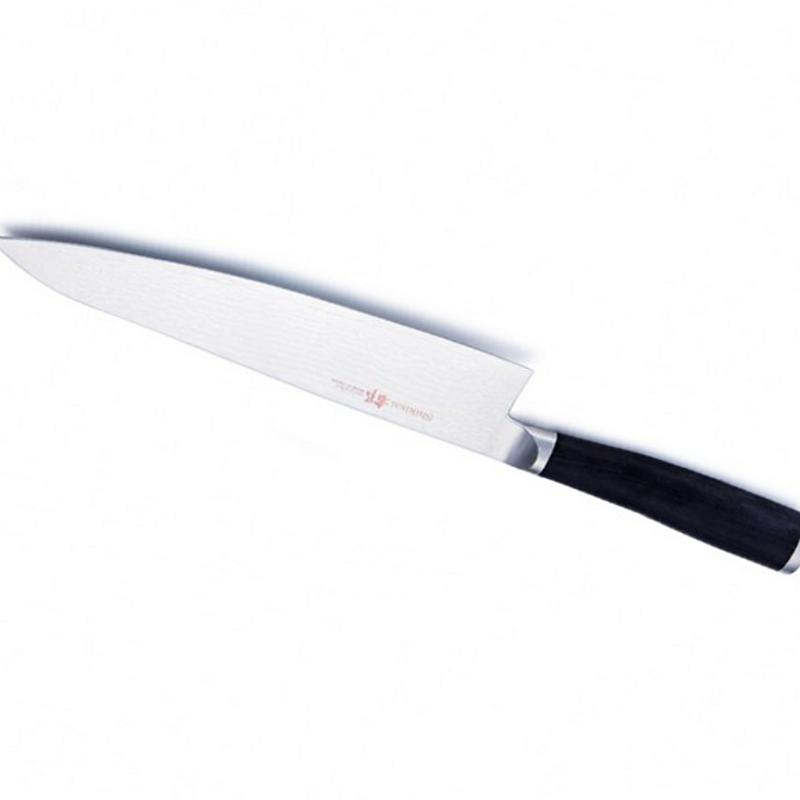knife: (1, 233, 800, 572)
